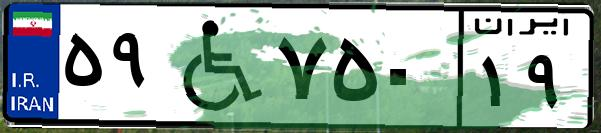0: (385, 28, 445, 110)
1: (475, 38, 525, 113)
5: (330, 28, 385, 110), (57, 26, 110, 100)
7: (270, 28, 330, 110)
9: (525, 38, 570, 115), (110, 28, 158, 98)
ژ (معلولین و جانبازان): (158, 12, 270, 120)
